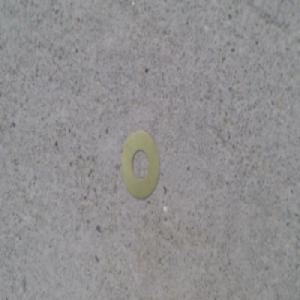Washer: (122, 130, 160, 200)
